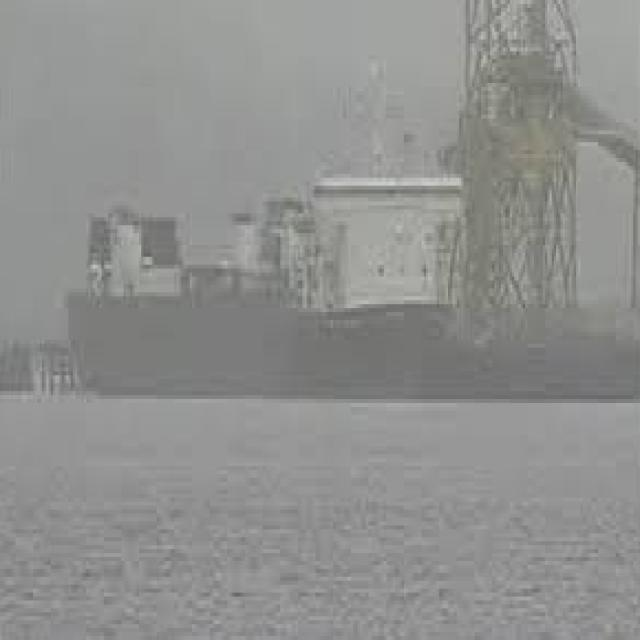cargoship: (68, 138, 640, 395)
